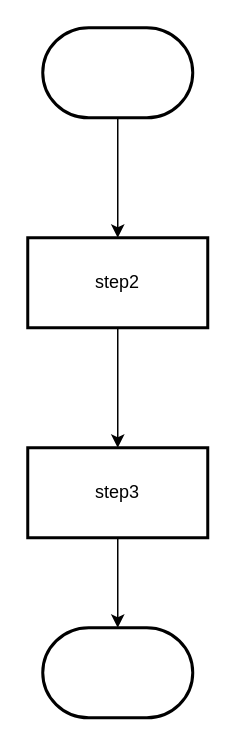
The diagram is 234 pixels wide and 744 high, and some of its shapes have lost their labels. The shapes that lost their labels are listed below. From the top down, each one's centre as x and y in pixels, then its label:
point 117,72: 开始
point 117,672: 结束
